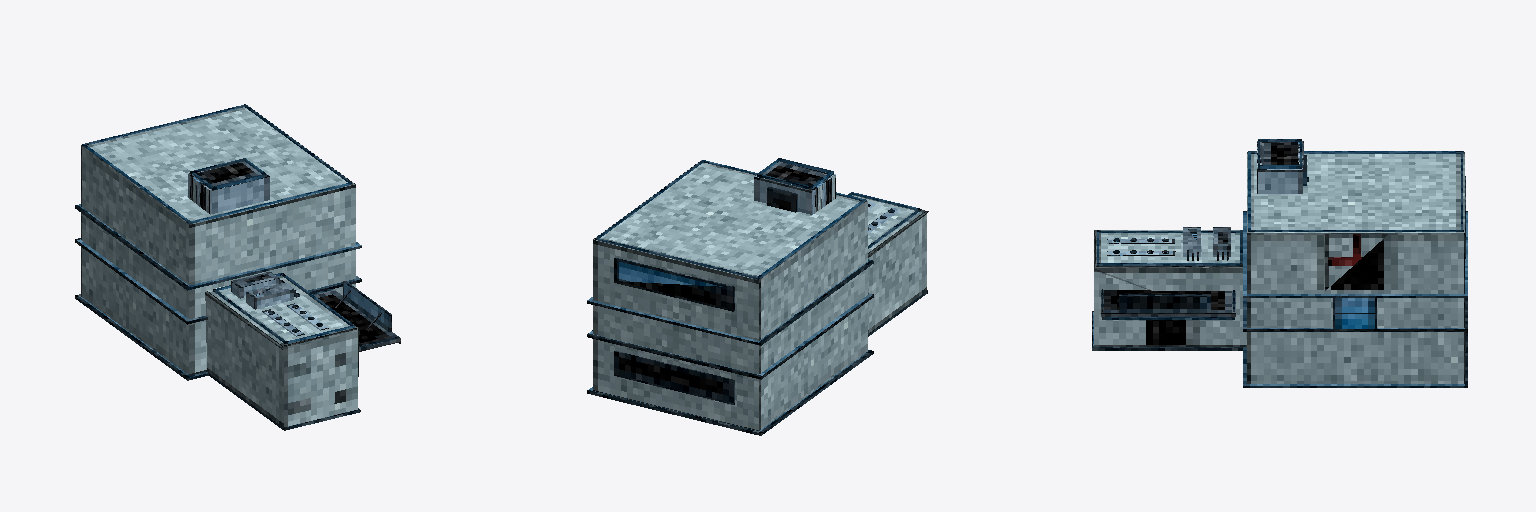
3 views of the same model, side by side, from view 1: azimuth 30°, elevation 25°; view 2: azimuth 150°, elevation 25°; view 3: azimuth 270°, elevation 25° (orthographic).
Parts seen in each view (by area): view 1: CUPIC_HOSPITAL; view 2: CUPIC_HOSPITAL; view 3: CUPIC_HOSPITAL.
Part boxes in pixels (bbox=[...]): CUPIC_HOSPITAL: bbox=[75, 104, 400, 430]; CUPIC_HOSPITAL: bbox=[587, 158, 928, 435]; CUPIC_HOSPITAL: bbox=[1092, 139, 1467, 387].
Size of the model in its own units: 334 by 329 by 625.
Materials: 1 (1 with a texture image).